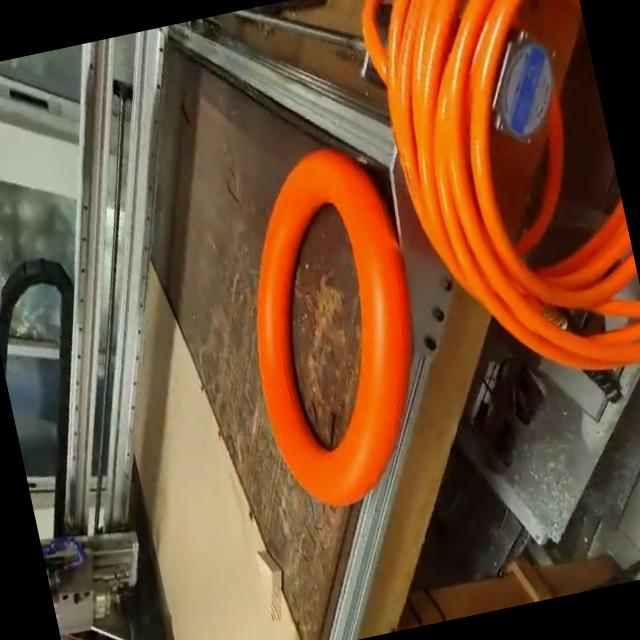note: (212, 131, 455, 524)
